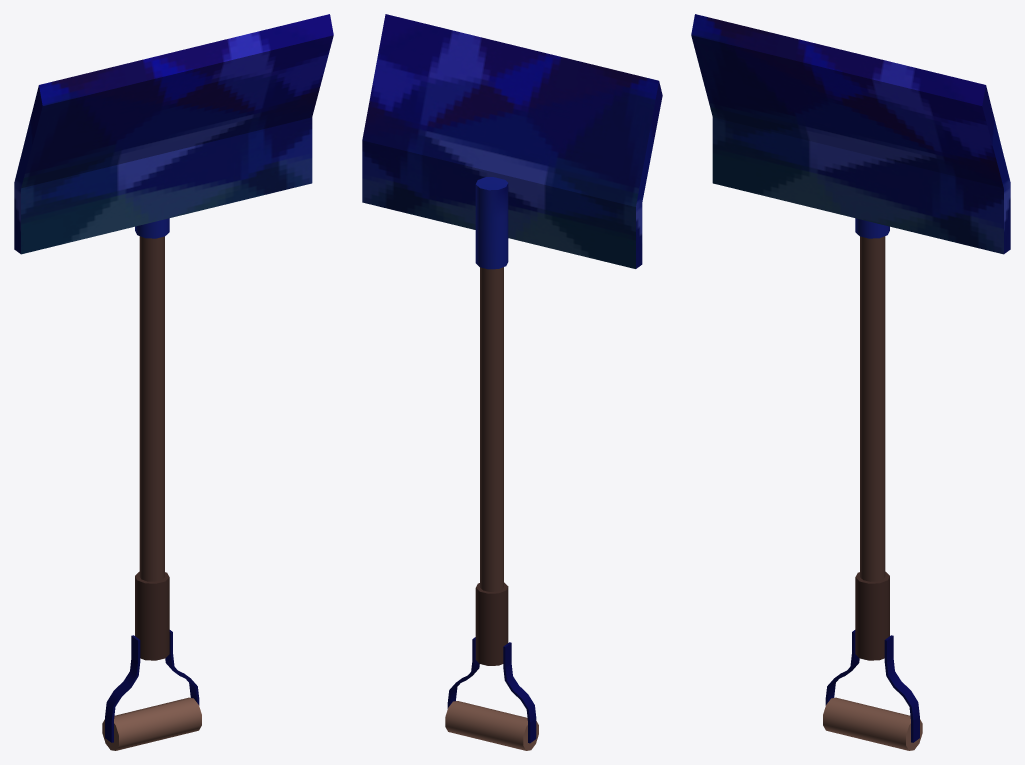
Rendered from Xeng Sapphire.fbx.
The picture shows the model from 3 angles, left to right: view 1: azimuth 30°, elevation 25°; view 2: azimuth 150°, elevation 25°; view 3: azimuth 330°, elevation 25°; orthographic projection. The views are drawn at different scales.
Parts seen in each view (by area): view 1: L6, C6, TC6; view 2: L6, C6, TC6; view 3: L6, C6, TC6.
Part boxes in pixels (bbox=[...]): L6: bbox=[14, 14, 333, 254]; C6: bbox=[139, 236, 164, 581]; TC6: bbox=[102, 571, 201, 750]; L6: bbox=[362, 14, 662, 269]; C6: bbox=[480, 267, 503, 591]; TC6: bbox=[445, 582, 538, 750]; L6: bbox=[691, 14, 1010, 254]; C6: bbox=[860, 236, 885, 581]; TC6: bbox=[823, 571, 922, 750].
Size of the model in its own units: 128 by 301 by 33.8.
